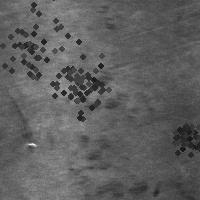rolled-in_scale: (70, 68, 159, 198), (0, 0, 85, 95), (34, 42, 120, 128), (161, 109, 200, 159), (94, 4, 115, 31)
